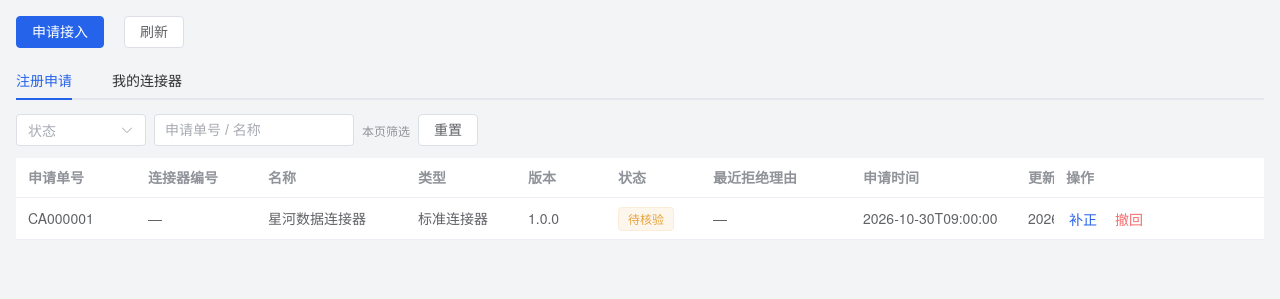
it: Tab2 我的连接器（T5） › 在线 tag 与最近心跳渲染；非已注册态在线显示「—」
The image size is (1280, 299).
What coordinates should you click on to do the following:
click the tab "我的连接器"
I would click on:
 (147, 80)
Its box is [112,70,182,90].
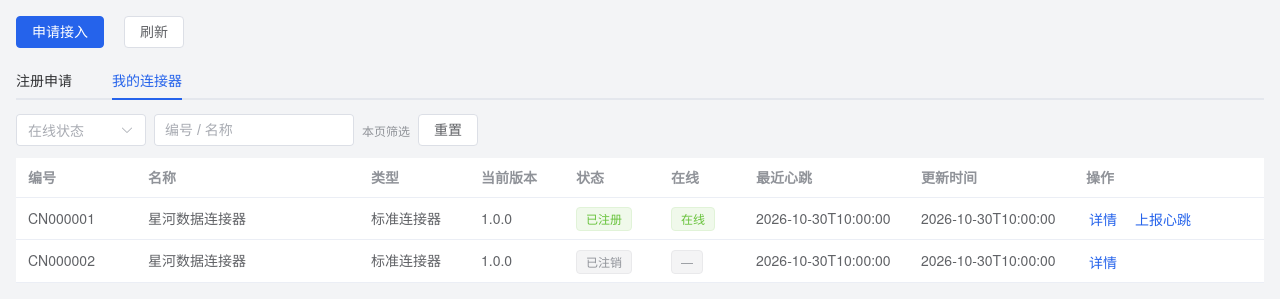
Now the text "在线" is shown, box [28,120,84,140]
Now the text "2026-10-30T10:00:00" is shown, box [756,208,891,228]
Now the row that starts with "CN000002" shows "—", box [681,253,693,270]
